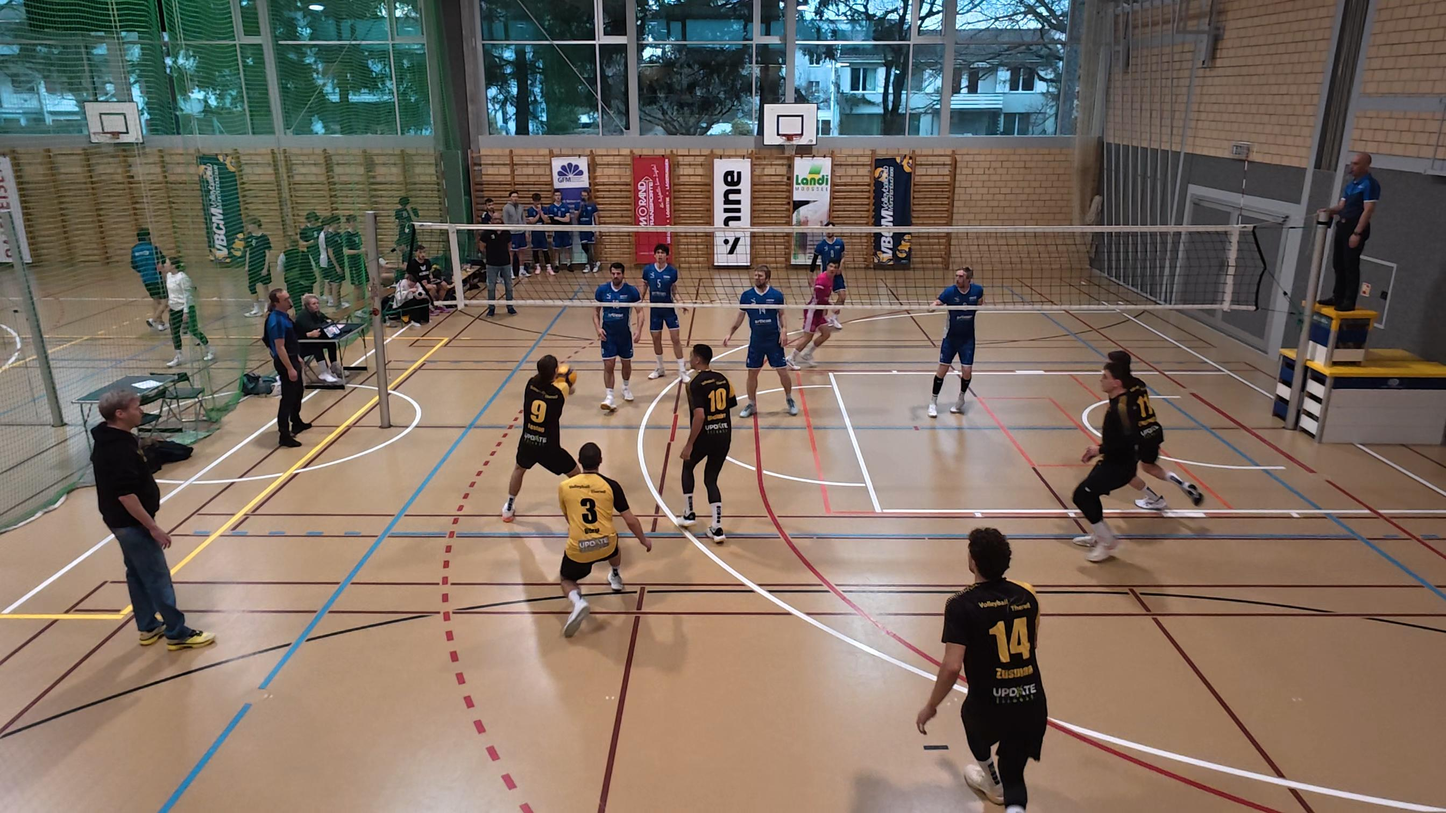ricezione: (497, 351, 590, 523)
